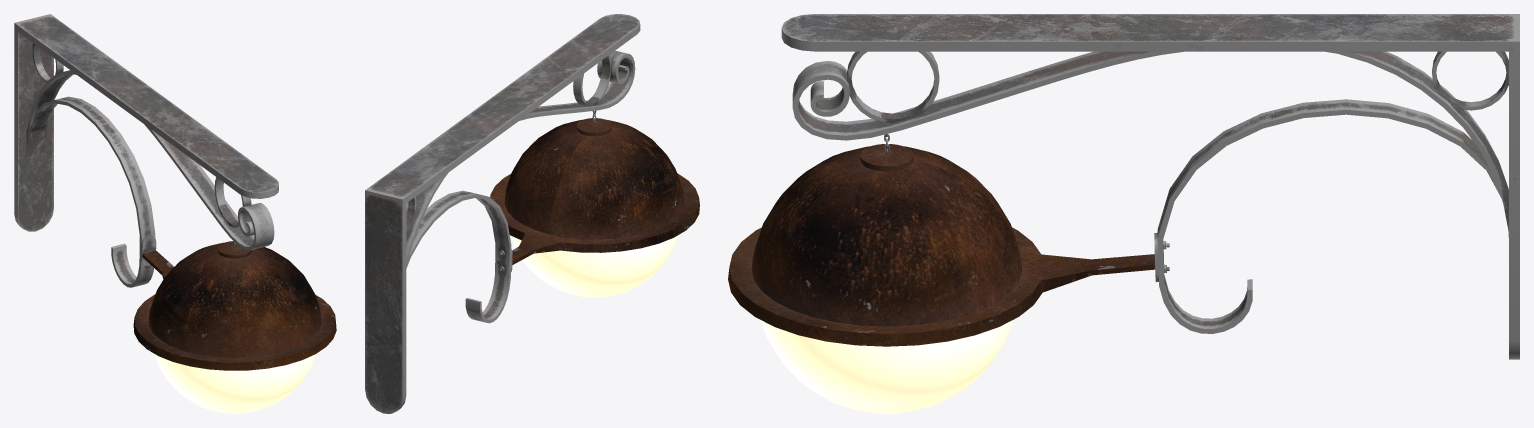
File: wall_mounted_light.glb
3 renders of one model, left to right at view 1: azimuth 30°, elevation 25°; view 2: azimuth 150°, elevation 25°; view 3: azimuth 270°, elevation 25°, orthographic. The views are drawn at different scales.
Parts seen in each view (by area): view 1: Cube.055; view 2: Cube.055; view 3: Cube.055.
Part boxes in pixels (x1,y1,x2,y2): Cube.055: [14, 14, 336, 413]; Cube.055: [365, 14, 699, 413]; Cube.055: [728, 14, 1519, 413].
Bounding box in the file's own units: 72.58 × 94.21 × 181.
Materials: 1 (1 with a texture image).
